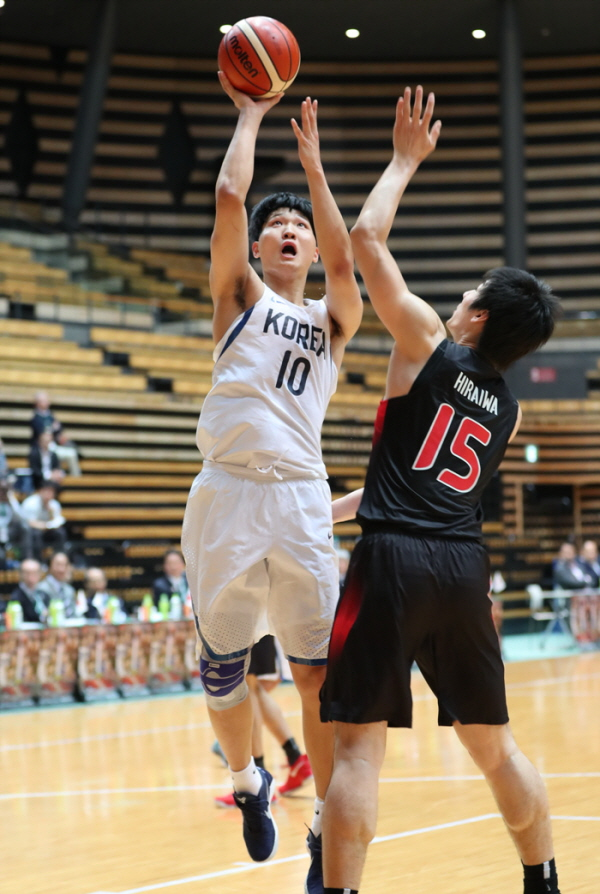ball: (209, 5, 303, 110)
defense: (359, 76, 570, 894)
shoot: (160, 5, 344, 876)
